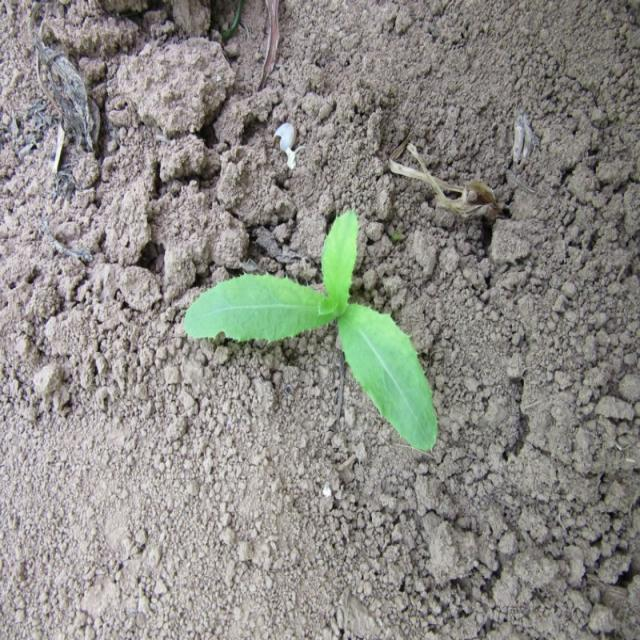field_thistle: (190, 205, 448, 455)
